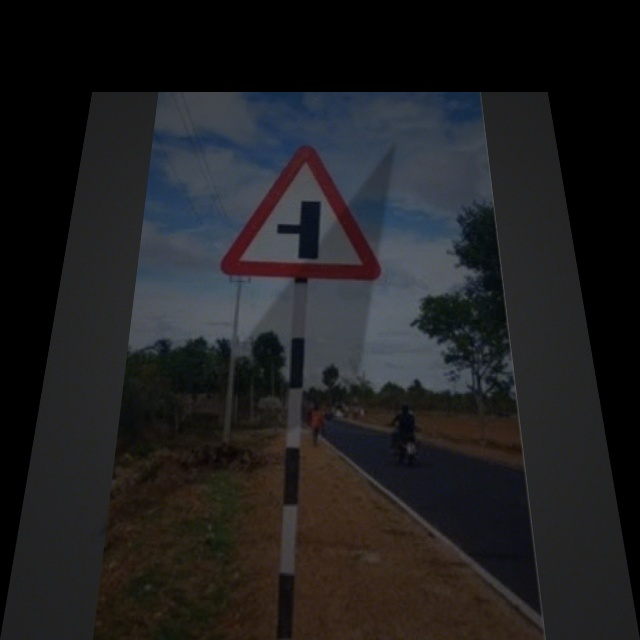Side_Road_Left: (222, 146, 383, 286)
